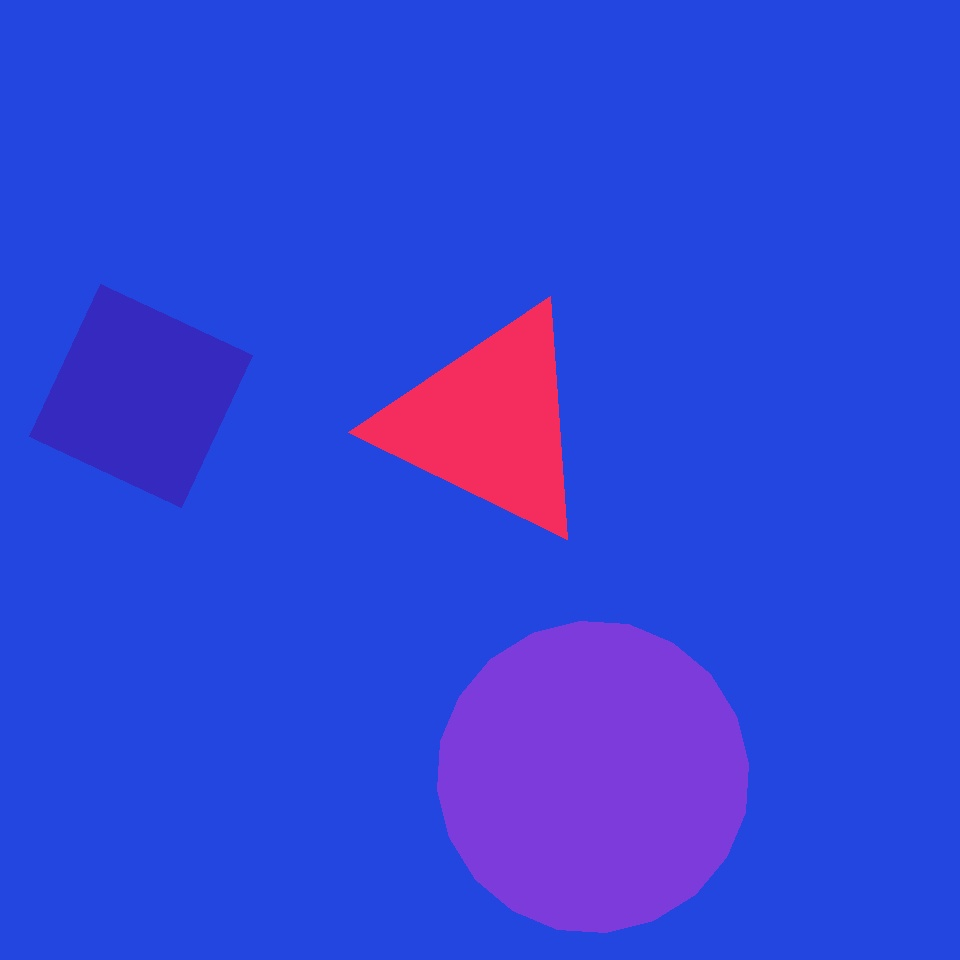circle: (380, 302, 598, 544)
square: (30, 284, 253, 507)
triangle: (437, 622, 748, 932)
